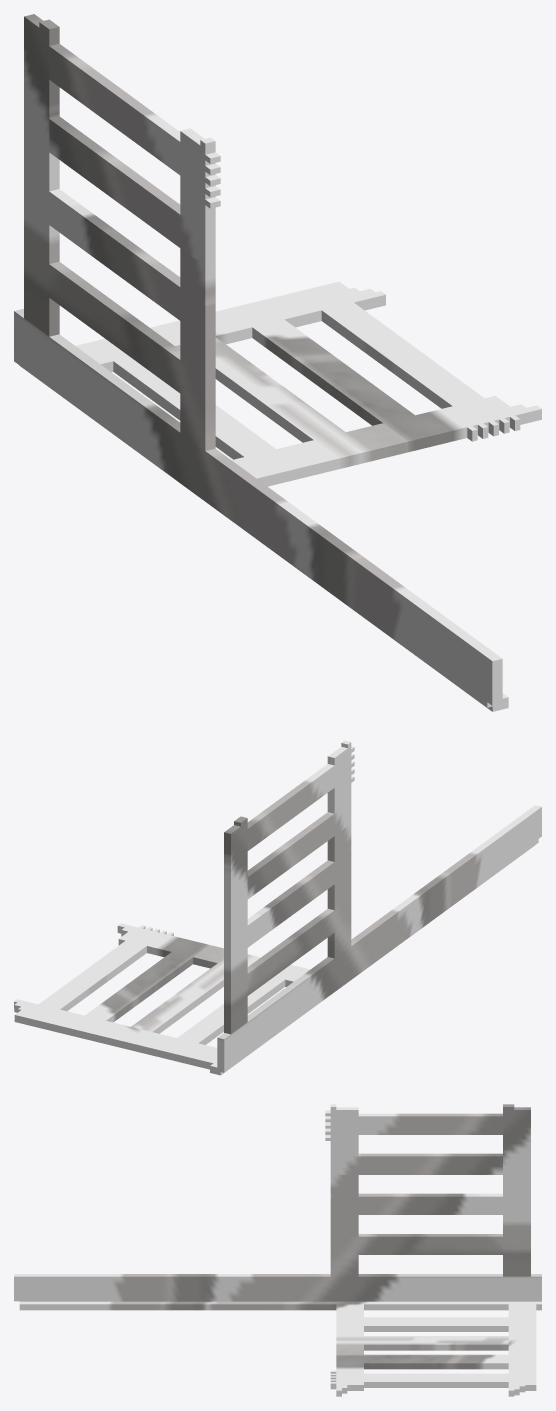
File: rail.obj
3 views of the same model, one above another, from view 1: azimuth 30°, elevation 25°; view 2: azimuth 150°, elevation 25°; view 3: azimuth 270°, elevation 25° (orthographic). The views are drawn at different scales.
Size of the model in its own units: 0.9994 by 1.01 by 2.42.
